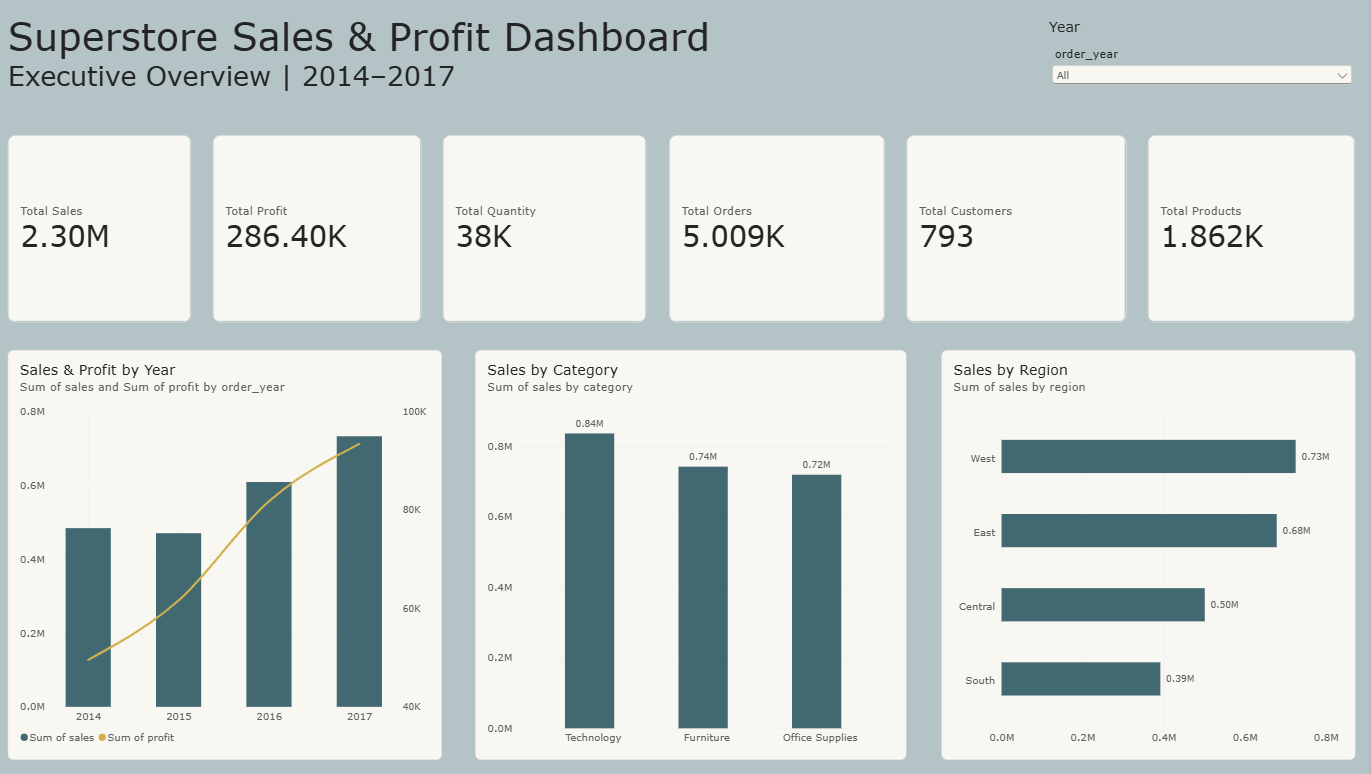

This screenshot's page, from the dashboard's own definition file:
{"tool":"powerbi","page":{"name":"Executive Overview","canvas":[1920,1080],"ordinal":0},"visuals":[{"type":"cardVisual","fields":{"Data":["Sum(superstore sales.sales)"]},"box":[19.2,188.4,256.4,261.6],"z":0},{"type":"cardVisual","fields":{"Data":["Sum(superstore sales.profit)"]},"box":[305.6,188.4,291.3,261.6],"z":1000},{"type":"cardVisual","fields":{"Data":["Sum(superstore sales.quantity)"]},"box":[626.9,188.4,284.3,261.6],"z":2000},{"type":"cardVisual","fields":{"Data":["Count(superstore sales.product_id)"]},"box":[1609.9,188.4,289.5,261.6],"z":3000},{"type":"cardVisual","fields":{"Data":["Count(superstore sales.order_id)"]},"box":[941.2,188.4,301.7,261.6],"z":4000},{"type":"cardVisual","fields":{"Data":["Count(superstore sales.customer_id)"]},"box":[1272.9,188.4,307,261.6],"z":5000},{"type":"lineClusteredColumnComboChart","title":"Sales & Profit by Year","fields":{"Category":["superstore sales.order_year"],"Y":["Sum(superstore sales.sales)"],"Y2":["Sum(superstore sales.profit)"]},"box":[19.2,488.4,605.2,572.1],"z":6000},{"type":"clusteredColumnChart","title":"Sales by Category","fields":{"Category":["superstore sales.category"],"Y":["Sum(superstore sales.sales)"]},"box":[672.4,488.4,601.7,572.1],"z":7000},{"type":"clusteredBarChart","title":"Sales by Region","fields":{"Category":["superstore sales.region"],"Y":["Sum(superstore sales.sales)"]},"box":[1322.1,488.4,577.3,572.1],"z":8000},{"type":"textbox","box":[19.2,0,1452.9,155.2],"z":9000},{"type":"slicer","title":"Year","fields":{"Values":["superstore sales.order_year"]},"box":[1472.1,24.4,427.3,130.8],"z":10000}]}

Visuals, with their boxes in screenshot pixels (x1, y1, x2, y2), scaled from the page's 1920x1080 canvas onto the 1371x774 screenshot:
cardVisual - Sum(superstore sales.sales): x1=14 y1=135 x2=197 y2=322
cardVisual - Sum(superstore sales.profit): x1=218 y1=135 x2=426 y2=322
cardVisual - Sum(superstore sales.quantity): x1=448 y1=135 x2=651 y2=322
cardVisual - Count(superstore sales.product_id): x1=1150 y1=135 x2=1356 y2=322
cardVisual - Count(superstore sales.order_id): x1=672 y1=135 x2=888 y2=322
cardVisual - Count(superstore sales.customer_id): x1=909 y1=135 x2=1128 y2=322
"Sales & Profit by Year" lineClusteredColumnComboChart: x1=14 y1=350 x2=446 y2=760
"Sales by Category" clusteredColumnChart: x1=480 y1=350 x2=910 y2=760
"Sales by Region" clusteredBarChart: x1=944 y1=350 x2=1356 y2=760
textbox: x1=14 y1=0 x2=1051 y2=111
"Year" slicer: x1=1051 y1=17 x2=1356 y2=111
